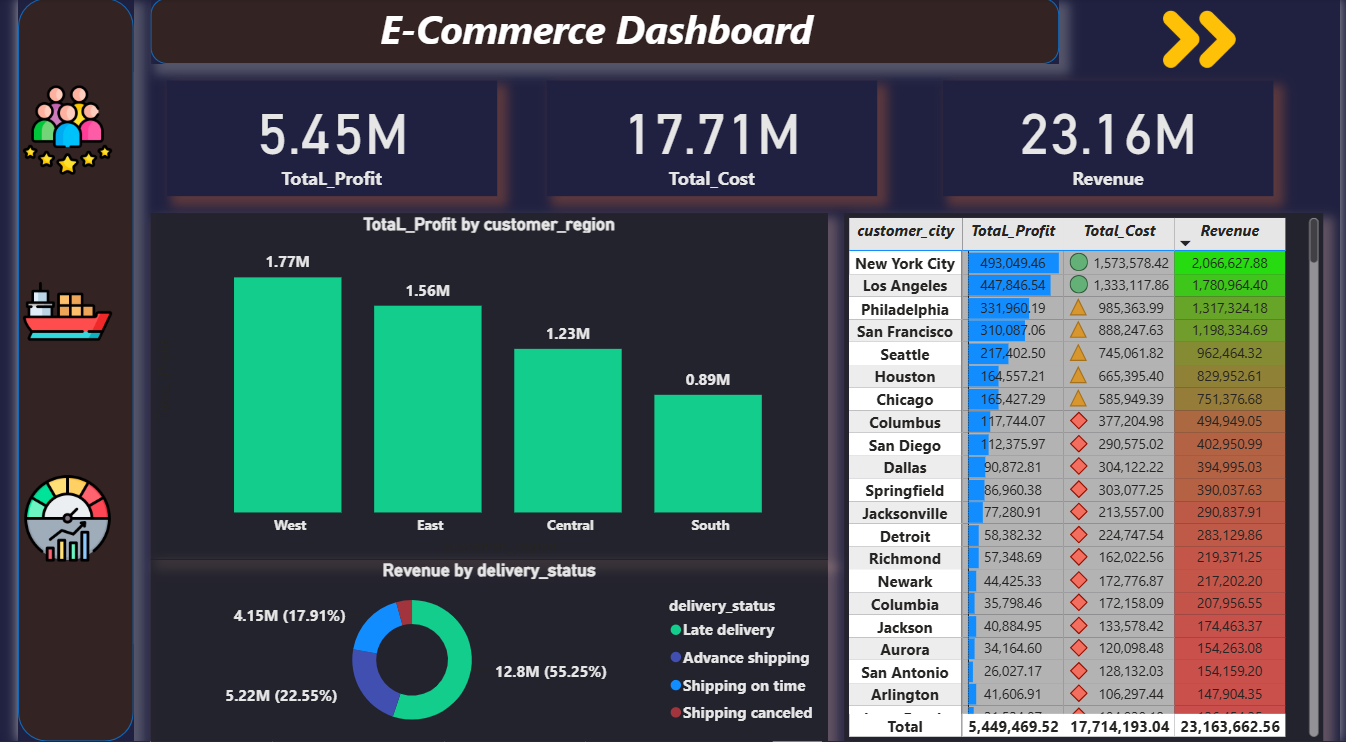

Layout of this report page (visuals, bound fields, positions):
{"tool":"powerbi","page":{"name":"main Page","canvas":[1280,720],"ordinal":0},"visuals":[{"type":"shape","box":[0,0,112,720],"z":0},{"type":"shape","box":[128,0,880,64],"z":1000},{"type":"textbox","box":[144,0,832,64],"z":2000},{"type":"card","fields":{"Values":["Calculated Dax.TotaL_Profit"]},"box":[144,80,320,112],"z":3000},{"type":"card","fields":{"Values":["Calculated Dax.Total_Cost"]},"box":[512,80,320,112],"z":4000},{"type":"card","fields":{"Values":["Calculated Dax.Revenue"]},"box":[896,80,320,112],"z":5000},{"type":"clusteredColumnChart","fields":{"Category":["Customer_details.customer_region"],"Y":["Calculated Dax.TotaL_Profit"]},"box":[128,208,656,336],"z":6000},{"type":"donutChart","fields":{"Category":["orders_details.delivery_status"],"Y":["Calculated Dax.Revenue"]},"box":[128,544,656,176],"z":7000},{"type":"pivotTable","fields":{"Rows":["Customer_details.customer_city"],"Values":["Calculated Dax.TotaL_Profit","Calculated Dax.Total_Cost","Calculated Dax.Revenue"]},"box":[800,208,464,512],"z":8000},{"type":"image","box":[0,80,96,96],"z":9000},{"type":"image","box":[0,256,96,96],"z":10000},{"type":"image","box":[0,448,96,112],"z":11000},{"type":"image","box":[1024,0,240,80],"z":12000}]}

Visuals, with their boxes in screenshot pixels (x1, y1, x2, y2), scaled from the page's 1280x720 canvas onto the 1346x742 screenshot:
shape: 0 0 118 741
shape: 135 0 1060 66
textbox: 151 0 1026 66
card - Calculated Dax.TotaL_Profit: 151 82 488 198
card - Calculated Dax.Total_Cost: 538 82 875 198
card - Calculated Dax.Revenue: 942 82 1279 198
clusteredColumnChart - Customer_details.customer_region x Calculated Dax.TotaL_Profit: 135 214 824 561
donutChart - orders_details.delivery_status x Calculated Dax.Revenue: 135 561 824 741
pivotTable - Customer_details.customer_city x Calculated Dax.TotaL_Profit: 841 214 1329 741
image: 0 82 101 181
image: 0 264 101 363
image: 0 462 101 577
image: 1077 0 1329 82
